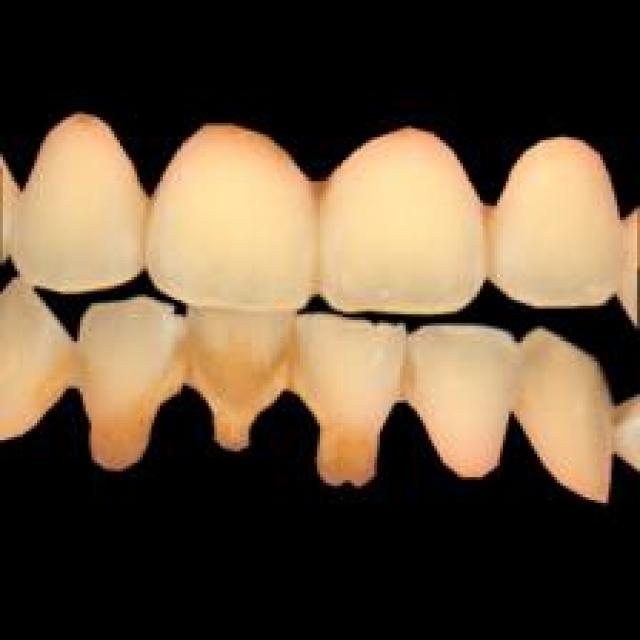1: (149, 106, 314, 300), (329, 125, 477, 308), (480, 123, 611, 317), (17, 97, 140, 289), (294, 306, 409, 494), (517, 326, 629, 506), (180, 300, 303, 451), (403, 320, 520, 477), (74, 292, 177, 468), (0, 274, 69, 437)
karies: (194, 343, 280, 446), (317, 423, 377, 486), (88, 417, 146, 466), (60, 346, 91, 388), (477, 200, 500, 251), (308, 174, 328, 200)
